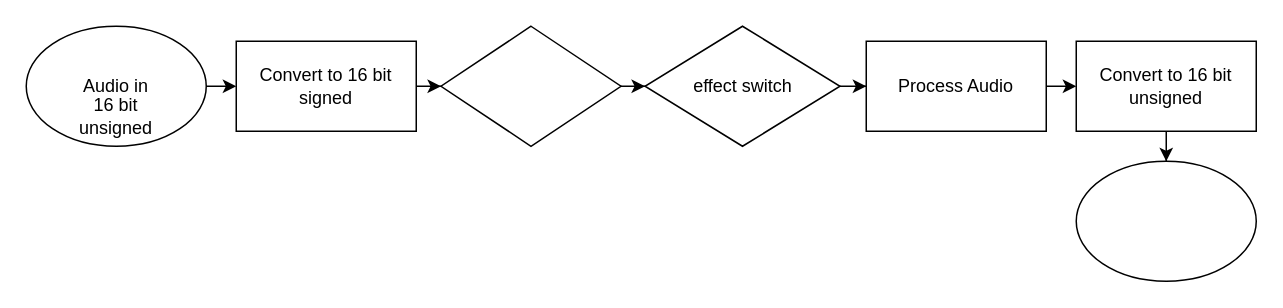
This 1283x308 diagram has some shape labels left out. The shapes that lost their labels are listed below. From the top down, each one's box as (x1, y1, x2, y2) in pixels, then its label:
(440, 25, 621, 146): effect bank switch
(1075, 160, 1256, 281): Audio out
